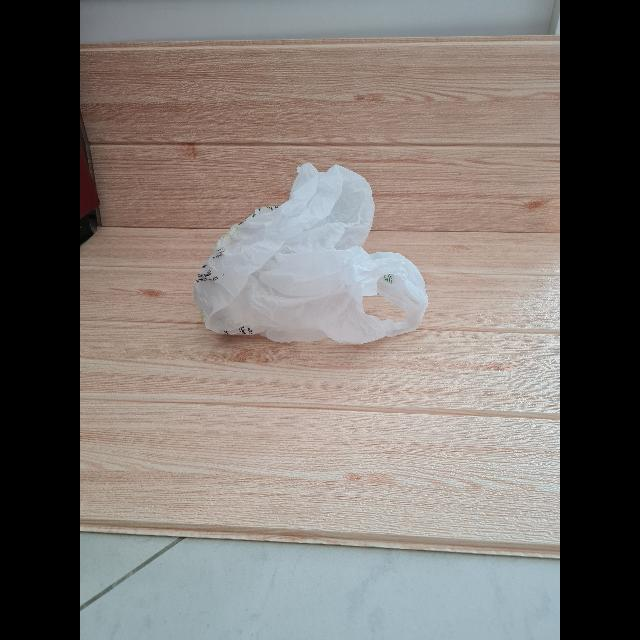plastic_bag: (178, 155, 442, 355)
